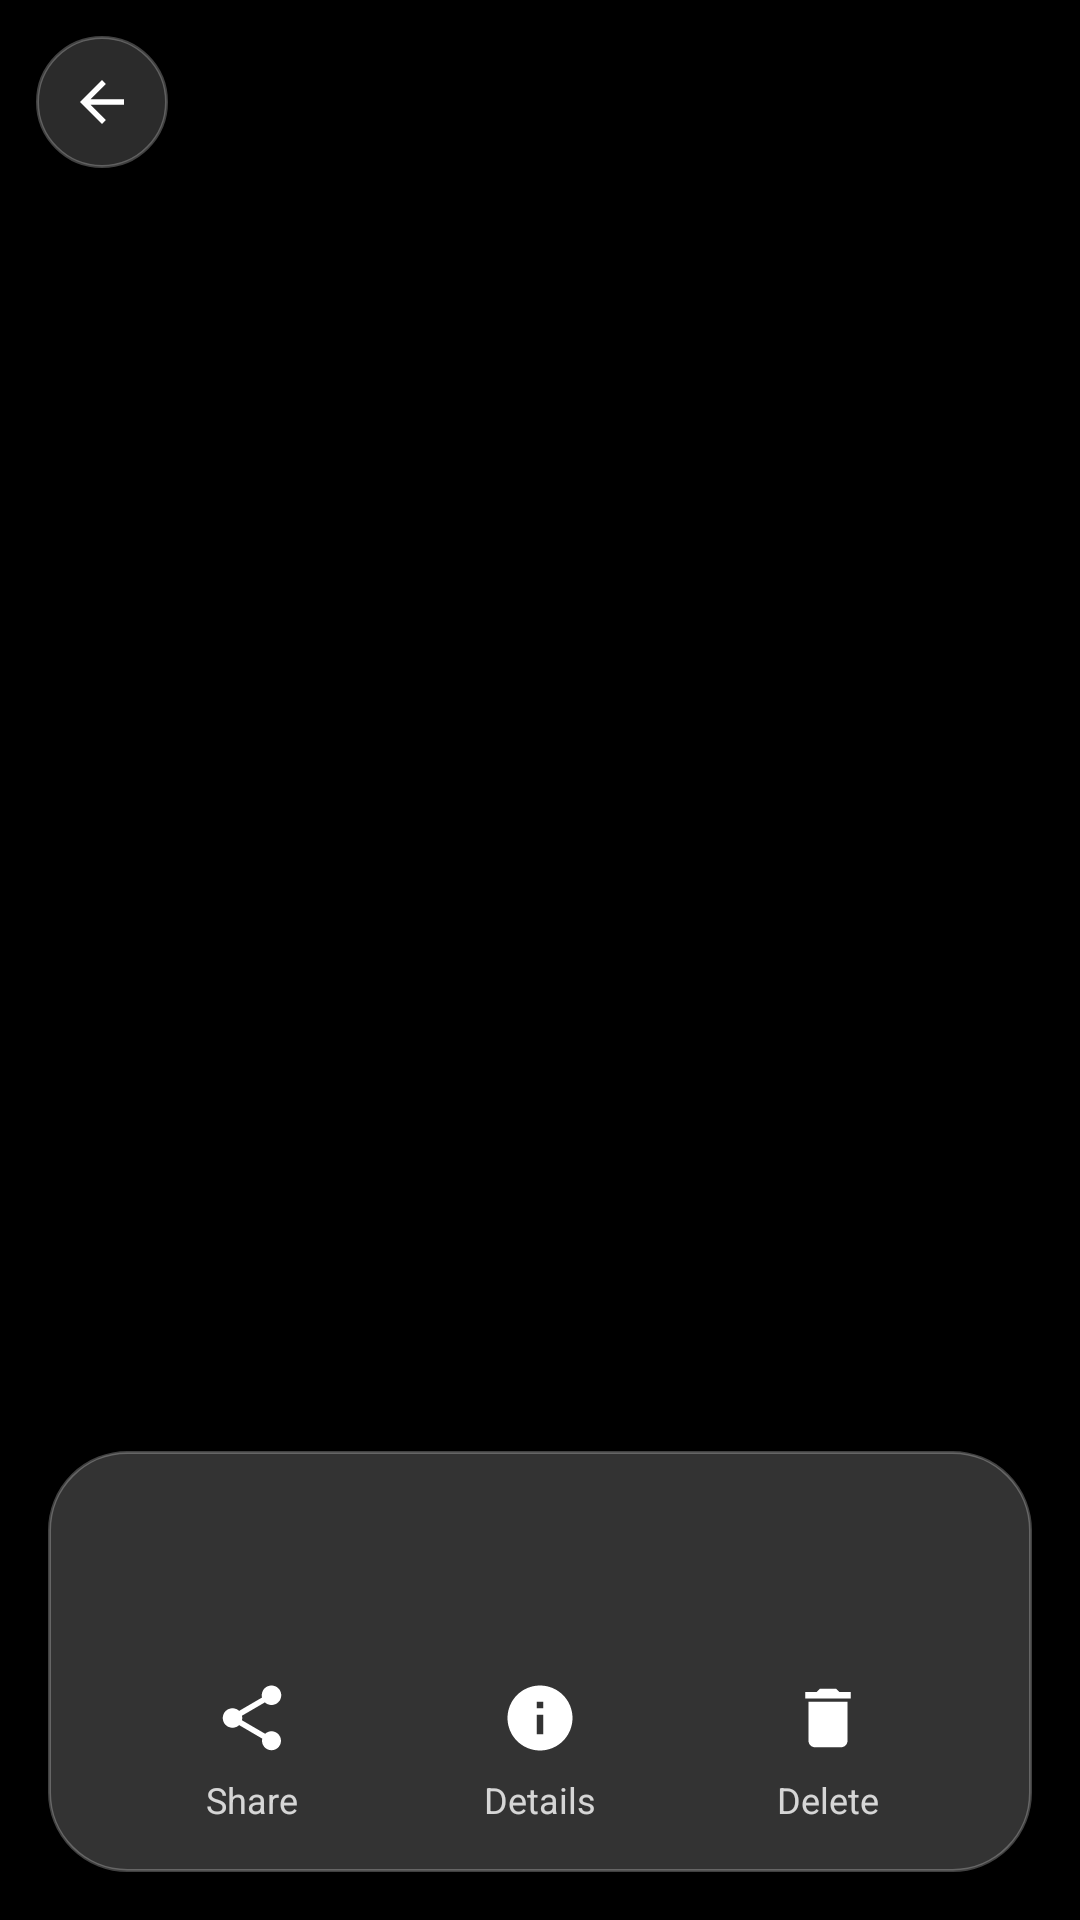

Named icons in this screenshot (1080px x 1920px) and their bounding boxes, (x1, y1, x2, y2):
Back: (36, 36, 168, 168)
